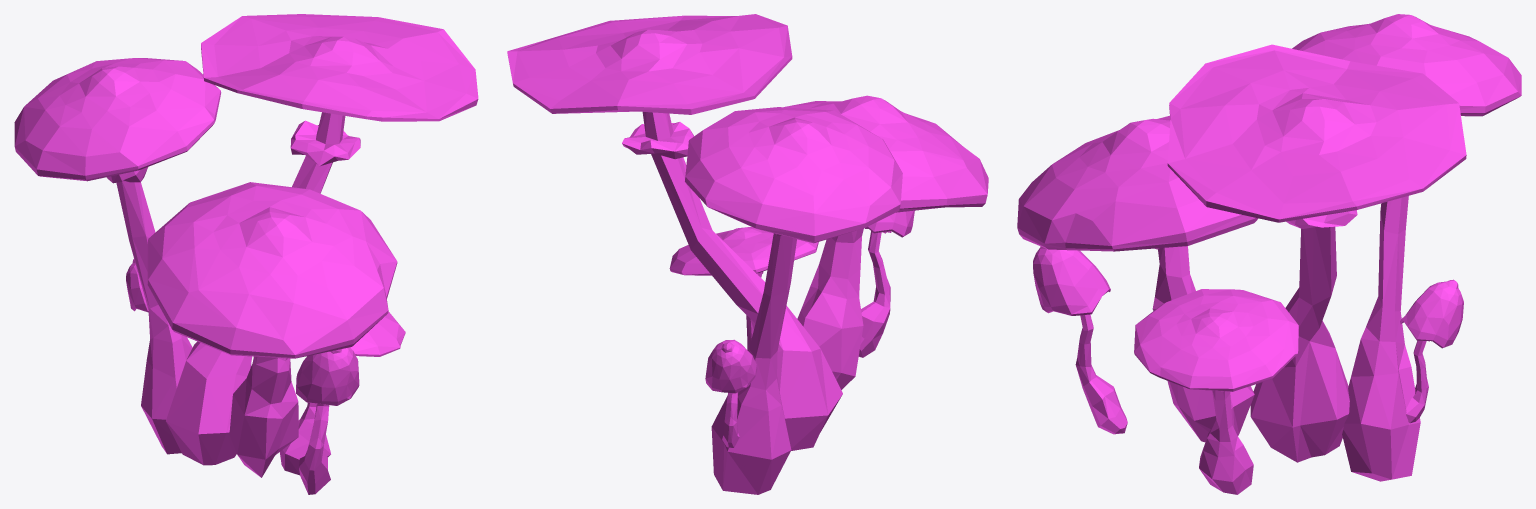
File: SM_Mushroom_Slim_Medium_Cluster_A_Fantasy.fbx
3 views of the same model, side by side, from view 1: azimuth 30°, elevation 25°; view 2: azimuth 150°, elevation 25°; view 3: azimuth 270°, elevation 25° (orthographic). The views are drawn at different scales.
Visible parts, largest first — view 1: SM_Mushroom_Slim_Medium_Cluster_A_Fantasy; view 2: SM_Mushroom_Slim_Medium_Cluster_A_Fantasy; view 3: SM_Mushroom_Slim_Medium_Cluster_A_Fantasy.
Boxes of the visible parts, x1,y1,x2,y2 form: SM_Mushroom_Slim_Medium_Cluster_A_Fantasy: [14, 14, 478, 494]; SM_Mushroom_Slim_Medium_Cluster_A_Fantasy: [507, 14, 988, 494]; SM_Mushroom_Slim_Medium_Cluster_A_Fantasy: [1017, 14, 1521, 494].
Bounding box in the file's own units: 1.65 × 1.58 × 1.63.
